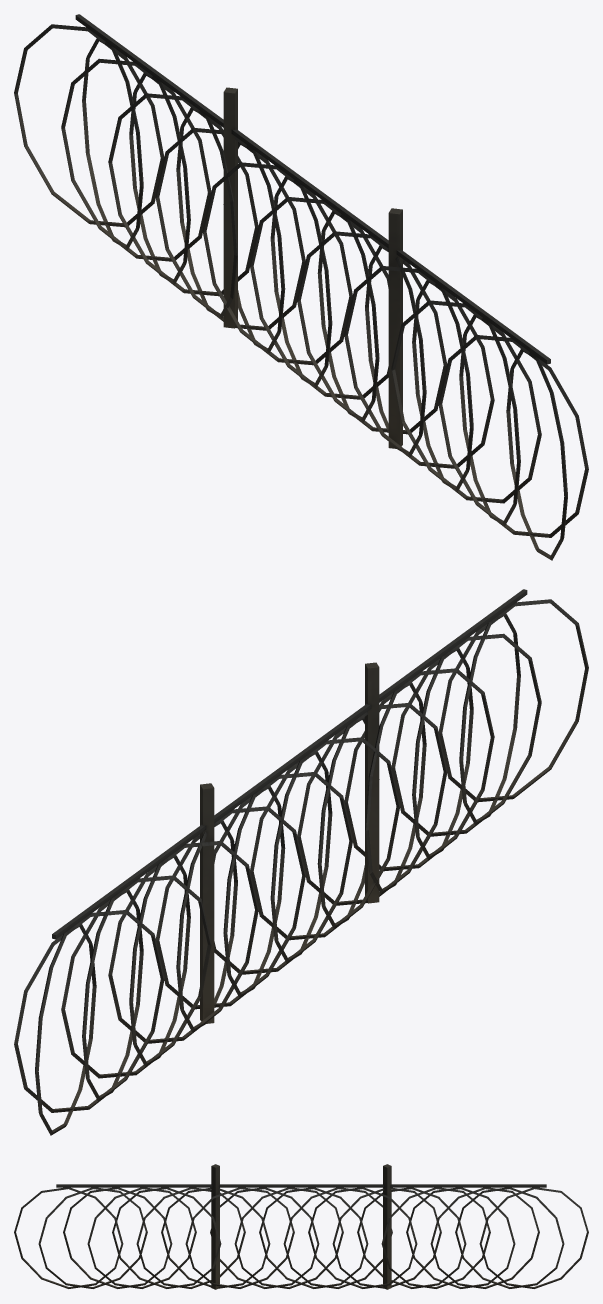
Rendered from barb-segment.glb.
3 views of the same model, one above another, from view 1: azimuth 30°, elevation 25°; view 2: azimuth 150°, elevation 25°; view 3: azimuth 270°, elevation 25° (orthographic). The views are drawn at different scales.
Parts seen in each view (by area): view 1: hull; view 2: hull; view 3: hull.
Boxes of the visible parts, x1=… form: hull: x1=14, y1=14, x2=588, y2=560; hull: x1=14, y1=589, x2=588, y2=1135; hull: x1=14, y1=1164, x2=588, y2=1289.
Bounding box in the file's own units: 0.2321 × 1.11 × 4.69.
Materials: 1 (1 with a texture image).
